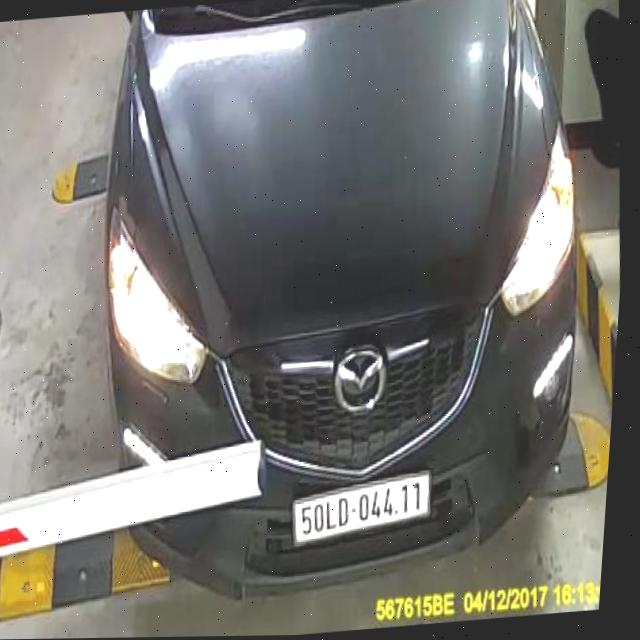car: (64, 0, 623, 615)
plate: (282, 477, 440, 546)
